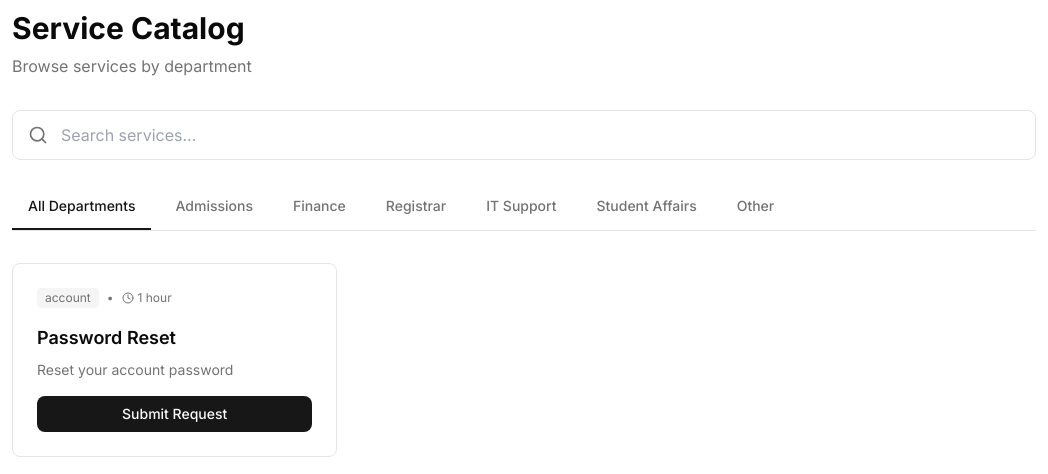
Scenario: Public Surfaces Integration Tests › Catalog Filters › should update results when department filter changes
Expected: the heading "Password Reset" is shown, [37,327,176,348]
# Change to Finance department
Click the button "Finance" at x=319, y=207, box [277,184,362,230]
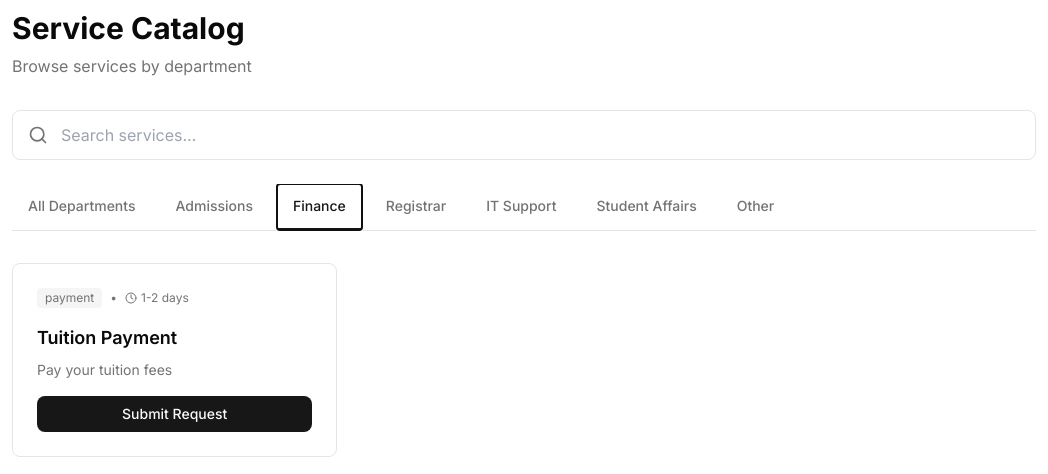
Result: the heading "Tuition Payment" is shown at [37,327,177,348]
Result: the heading "Password Reset" is gone
